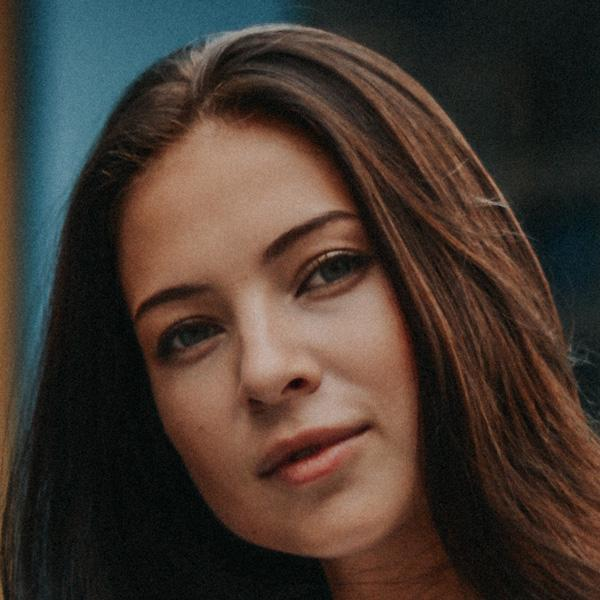Eyes: (288, 238, 377, 312), (152, 305, 235, 371)
